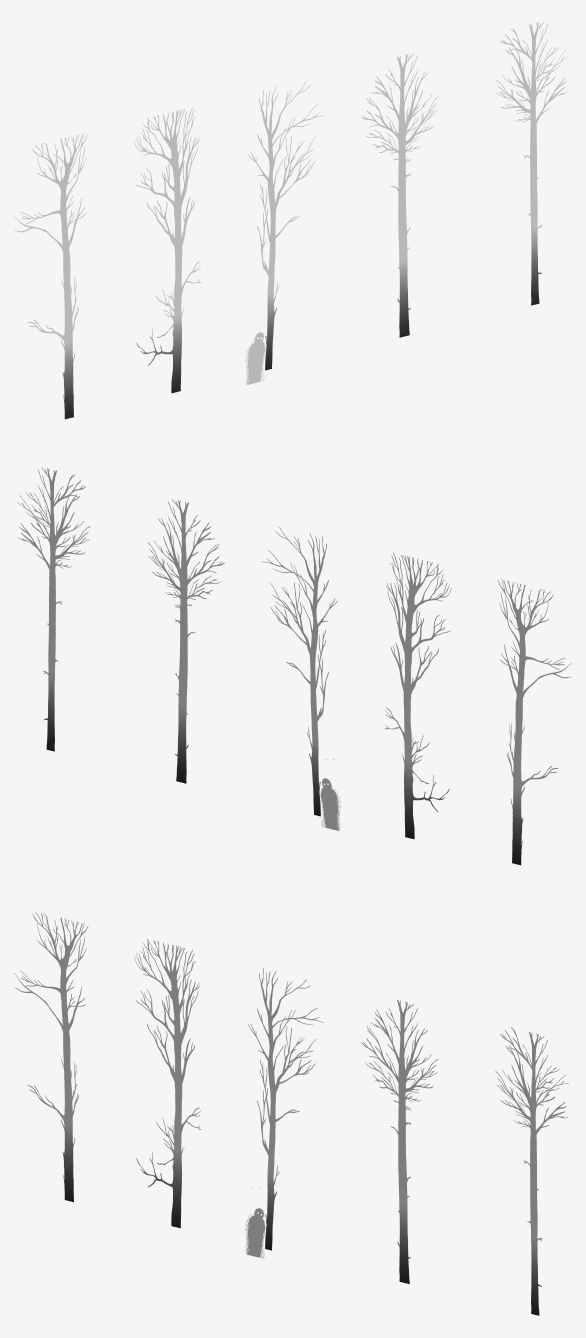
The model's file is trees_01.glb.
3 renders of one model, top to bottom at view 1: azimuth 30°, elevation 25°; view 2: azimuth 150°, elevation 25°; view 3: azimuth 330°, elevation 25°, orthographic.
Visible parts, largest first — view 1: Tree_11, Tree_14, Tree_10, Tree_15, Tree_13, eyes; view 2: Tree_11, Tree_14, Tree_10, Tree_15, Tree_13, eyes; view 3: Tree_11, Tree_14, Tree_10, Tree_15, Tree_13, eyes.
Part boxes in pixels (x1,y1,x2,y2): Tree_11: [134, 106, 200, 393]; Tree_14: [361, 53, 437, 337]; Tree_10: [14, 133, 88, 419]; Tree_15: [495, 21, 568, 305]; Tree_13: [248, 81, 323, 370]; eyes: [245, 332, 265, 384]; Tree_11: [385, 552, 451, 839]; Tree_14: [148, 499, 224, 783]; Tree_10: [497, 579, 571, 865]; Tree_15: [17, 467, 90, 751]; Tree_13: [262, 527, 337, 816]; eyes: [320, 778, 340, 830]; Tree_11: [134, 939, 200, 1228]; Tree_14: [361, 999, 438, 1283]; Tree_10: [14, 911, 88, 1202]; Tree_15: [495, 1027, 568, 1315]; Tree_13: [248, 968, 323, 1250]; eyes: [245, 1208, 265, 1258].
Size of the model in its own units: 22.98 by 11.48 by 0.2107.
3 materials, 3 textured.
